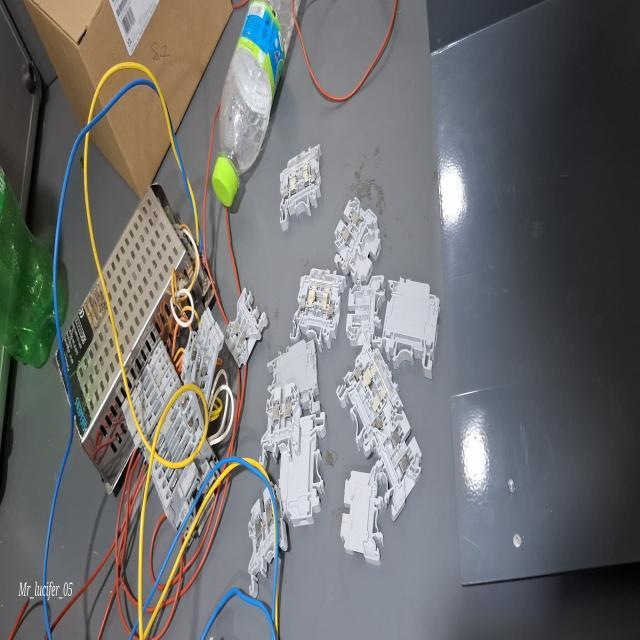Inverted: (336, 444, 390, 572)
Pass: (363, 400, 428, 528), (248, 480, 294, 602), (260, 370, 304, 472), (224, 285, 270, 369), (334, 196, 381, 274)
Reject: (343, 264, 386, 352)
